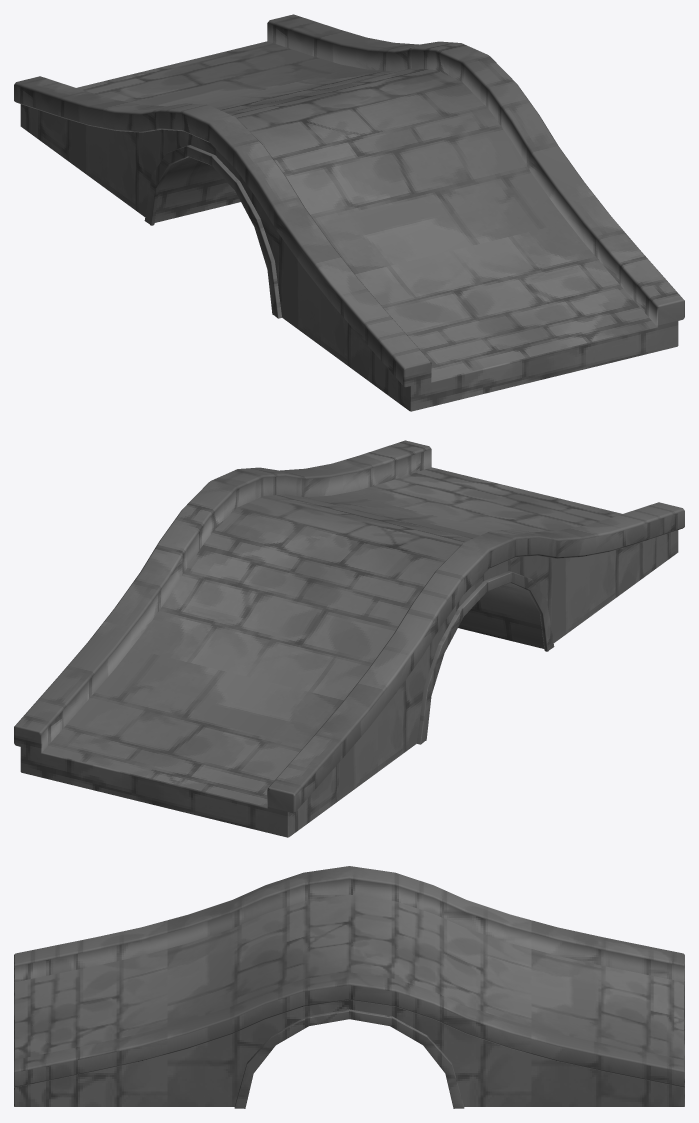
File: rowroad.FBX
3 views of the same model, one above another, from view 1: azimuth 30°, elevation 25°; view 2: azimuth 150°, elevation 25°; view 3: azimuth 270°, elevation 25° (orthographic). The views are drawn at different scales.
Parts seen in each view (by area): view 1: bridge_01; view 2: bridge_01; view 3: bridge_01.
Part boxes in pixels (<box>): bridge_01: <box>14,14,684,411</box>; bridge_01: <box>14,440,684,837</box>; bridge_01: <box>14,866,684,1108</box>.
Bounding box in the file's own units: 216 × 108 × 517.
